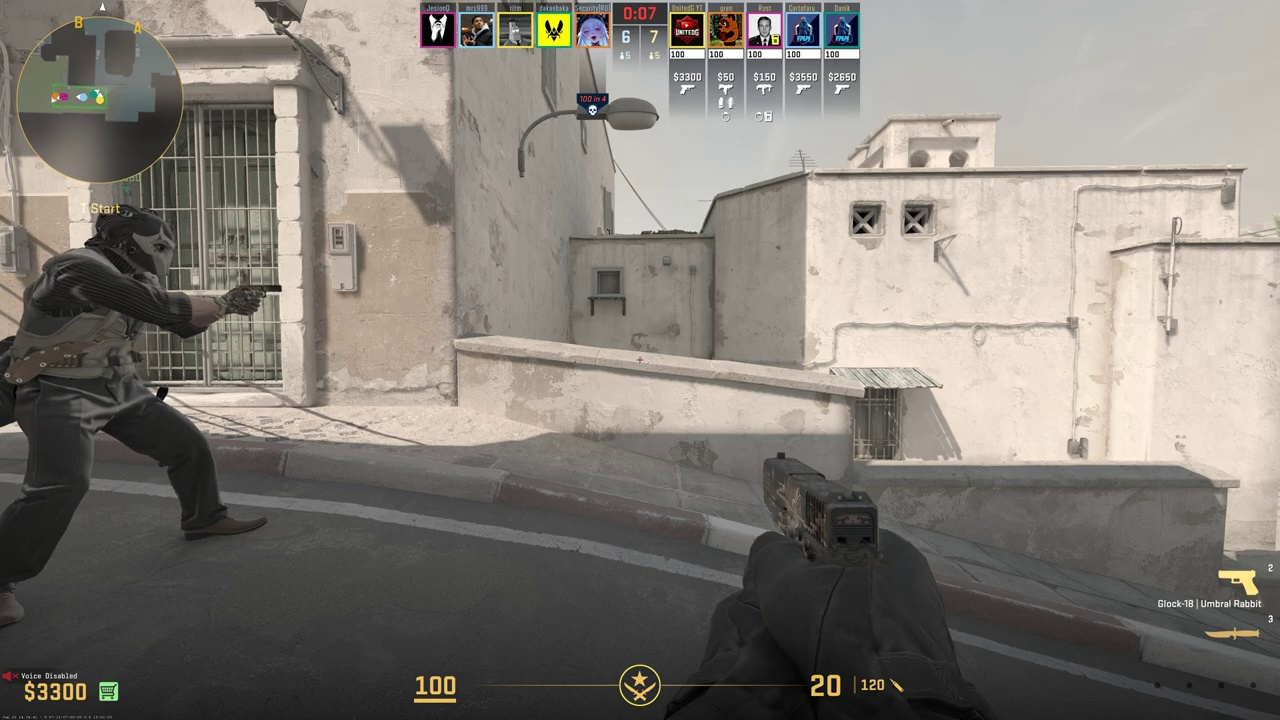Terrorist: (0, 204, 261, 595)
